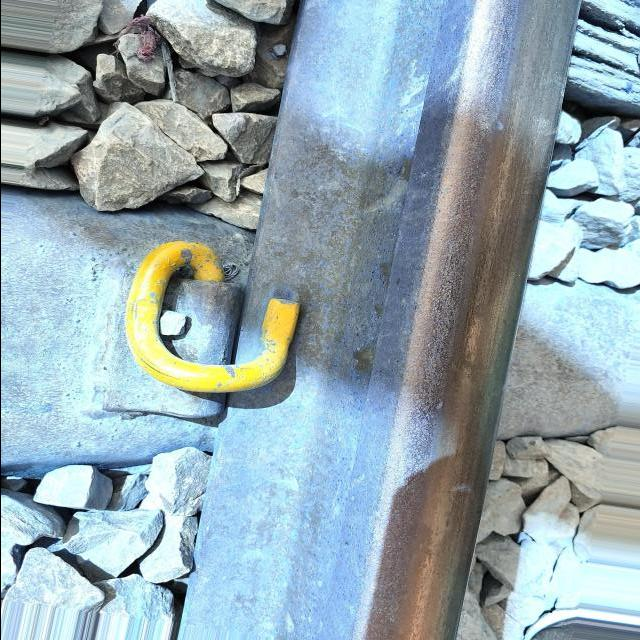broken_rail_medium: (444, 484, 473, 494), (430, 401, 446, 411), (493, 120, 505, 132)
